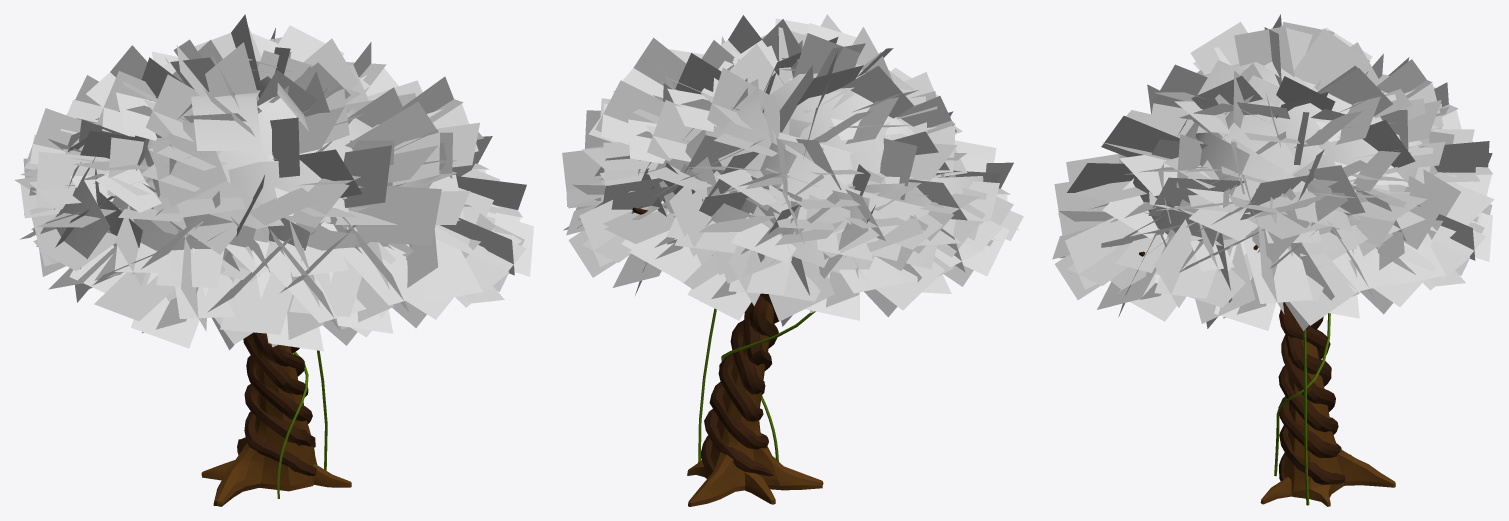
Rendered from MF_Dschungletree_1.FBX.
3 views of the same model, side by side, from view 1: azimuth 30°, elevation 25°; view 2: azimuth 150°, elevation 25°; view 3: azimuth 270°, elevation 25° (orthographic). The views are drawn at different scales.
Parts seen in each view (by area): view 1: Leaves, Dschungletree_1; view 2: Leaves, Dschungletree_1, Vine_2, Vine_1; view 3: Leaves, Dschungletree_1, Vine_1, Vine_2.
Boxes of the visible parts, x1=… form: Leaves: x1=14, y1=14, x2=533, y2=351; Dschungletree_1: x1=201, y1=332, x2=351, y2=506; Leaves: x1=562, y1=14, x2=1023, y2=326; Dschungletree_1: x1=632, y1=207, x2=823, y2=506; Vine_2: x1=721, y1=311, x2=815, y2=461; Vine_1: x1=698, y1=308, x2=716, y2=462; Leaves: x1=1052, y1=14, x2=1494, y2=330; Dschungletree_1: x1=1139, y1=245, x2=1395, y2=506; Vine_1: x1=1303, y1=329, x2=1309, y2=505; Vine_2: x1=1274, y1=313, x2=1330, y2=476.
Size of the model in its own units: 15.84 by 15.04 by 16.07.
